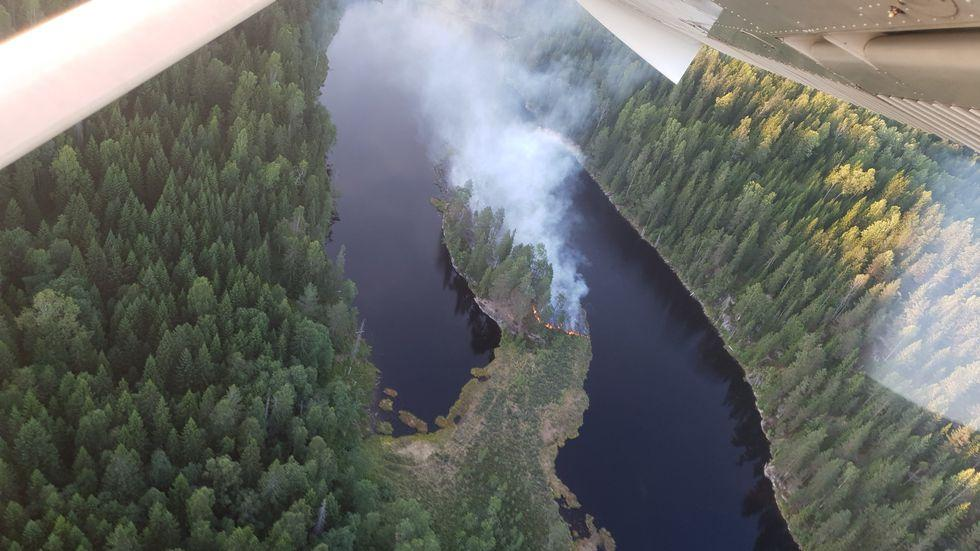smoke: (383, 9, 598, 333)
